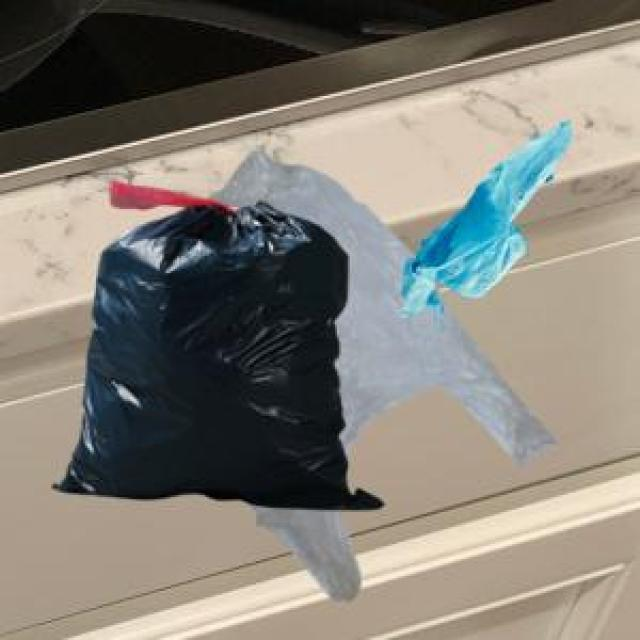miscellaneous trash: (49, 177, 380, 506)
